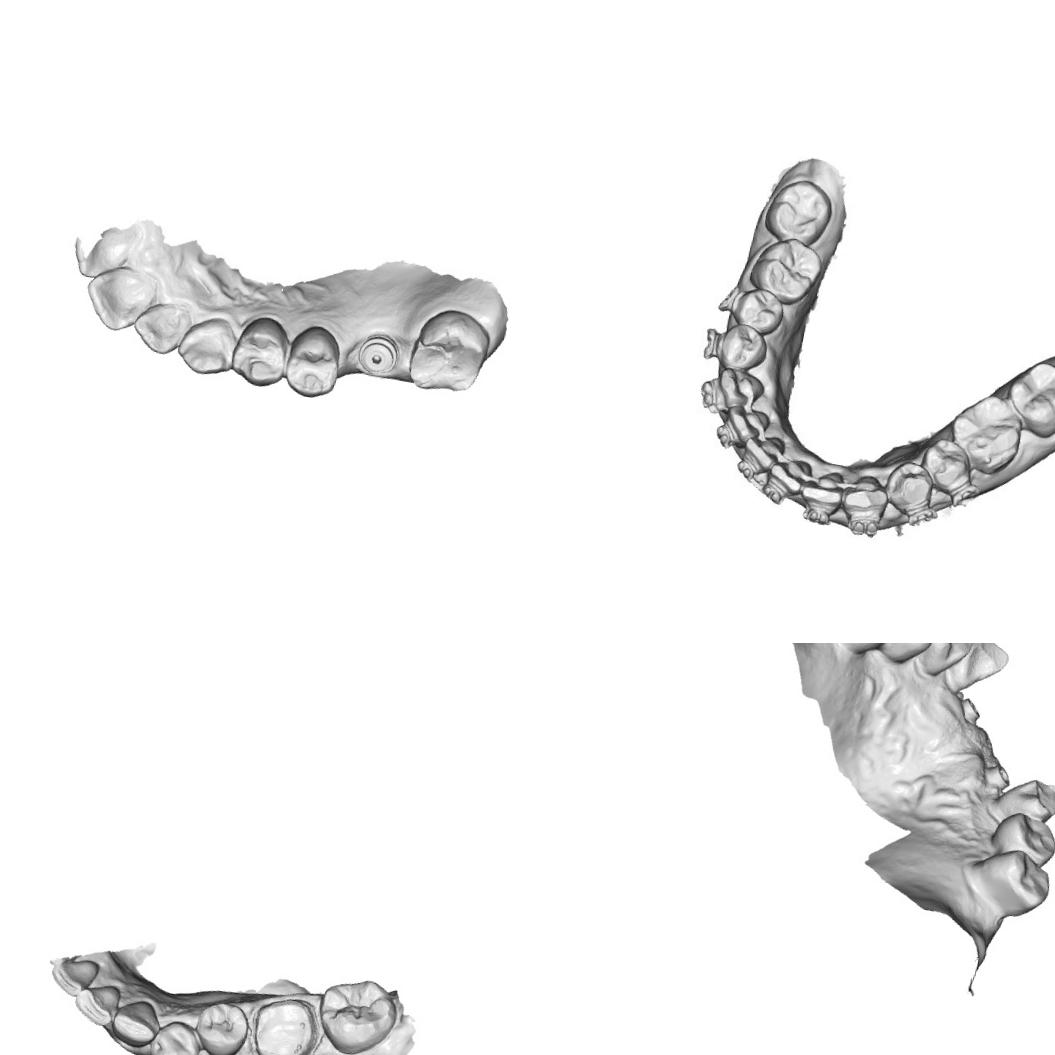canine: (172, 309, 243, 381), (987, 769, 1055, 829), (106, 993, 164, 1052), (718, 365, 766, 414), (919, 643, 977, 683), (842, 471, 887, 520)
crown: (245, 989, 322, 1055)
implant: (355, 332, 397, 376), (979, 760, 1015, 797), (954, 692, 986, 728)
incisor: (78, 261, 163, 337), (940, 643, 1014, 702), (128, 298, 188, 360), (69, 977, 123, 1030), (46, 952, 102, 1001), (724, 402, 770, 446), (802, 468, 842, 511), (770, 456, 811, 495), (742, 437, 786, 470)
molar: (310, 969, 402, 1055), (403, 312, 489, 399), (948, 392, 1024, 469), (766, 177, 833, 248), (754, 232, 824, 296), (1009, 358, 1055, 432)
premolar: (965, 840, 1055, 922), (225, 312, 294, 390), (280, 321, 346, 401), (986, 807, 1055, 866), (189, 996, 253, 1055), (922, 438, 972, 488), (888, 462, 940, 509), (145, 1014, 204, 1055), (722, 325, 774, 371), (734, 290, 783, 331), (876, 643, 941, 670), (825, 643, 906, 662)
